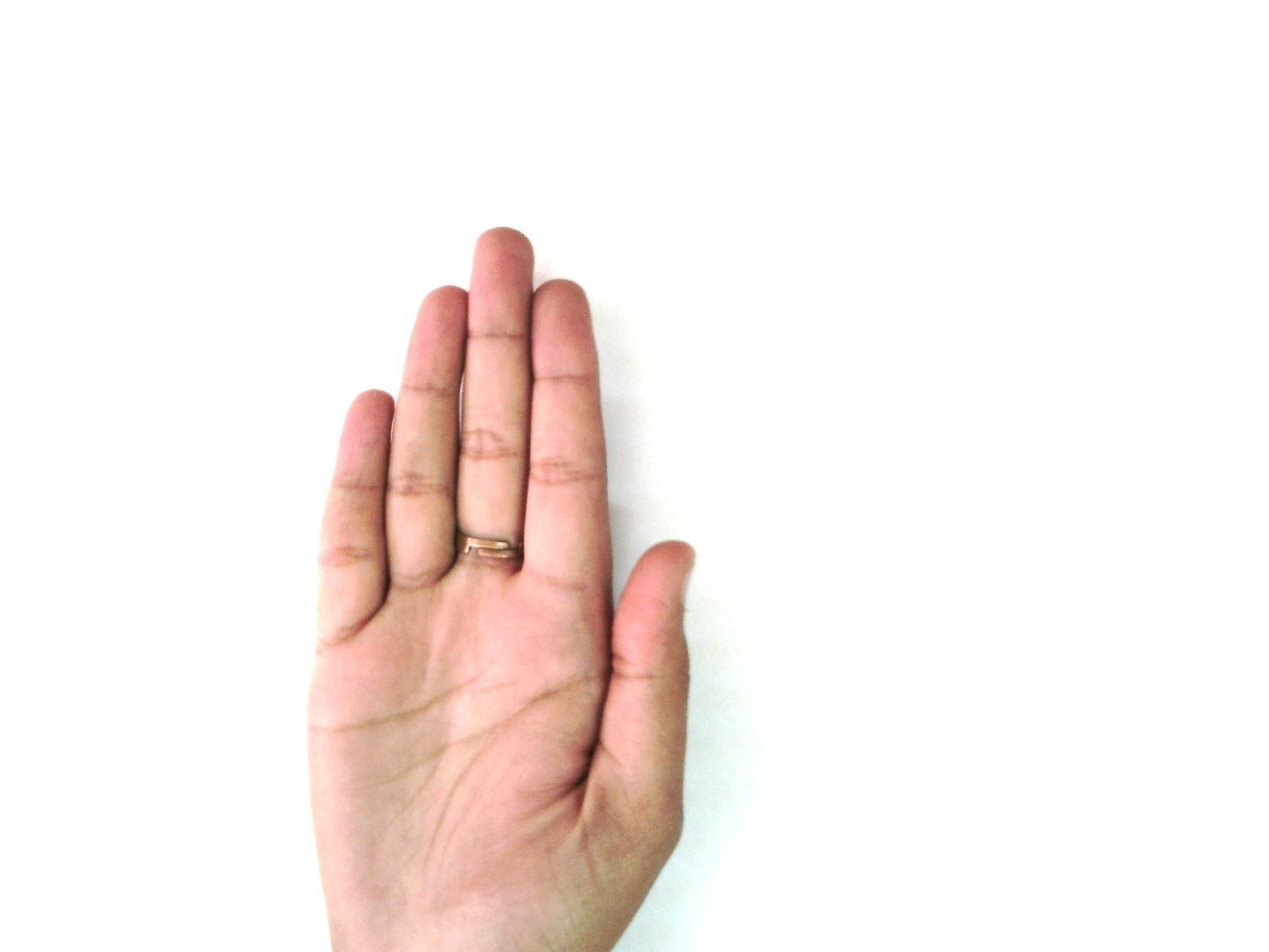open_palm: (303, 226, 699, 951)
